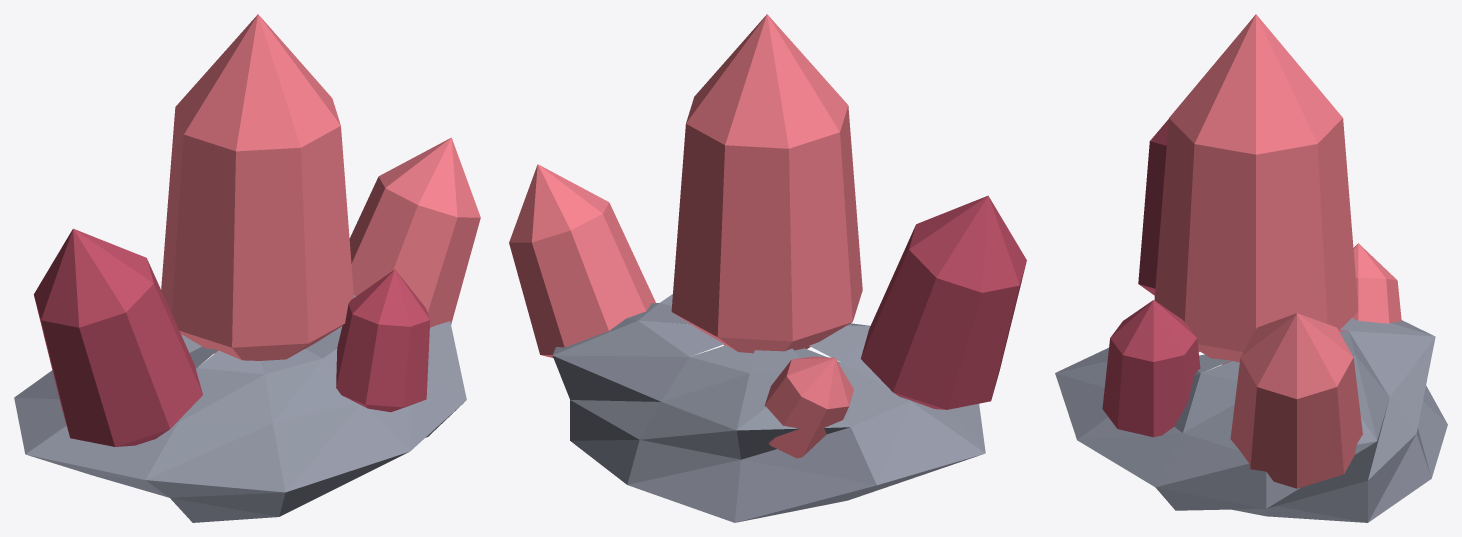
File: game-ui-icon-library-ruby-cluster-aa29a1bc__18975.glb
The picture shows the model from 3 angles, left to right: view 1: azimuth 30°, elevation 25°; view 2: azimuth 150°, elevation 25°; view 3: azimuth 270°, elevation 25°; orthographic projection. The views are drawn at different scales.
Parts seen in each view (by area): view 1: ruby-cluster; view 2: ruby-cluster; view 3: ruby-cluster.
Part boxes in pixels (x1=…): ruby-cluster: x1=14, y1=14, x2=480, y2=522; ruby-cluster: x1=509, y1=14, x2=1026, y2=522; ruby-cluster: x1=1055, y1=14, x2=1447, y2=522.
Bounding box in the file's own units: 0.9713 × 0.94 × 0.6875.
